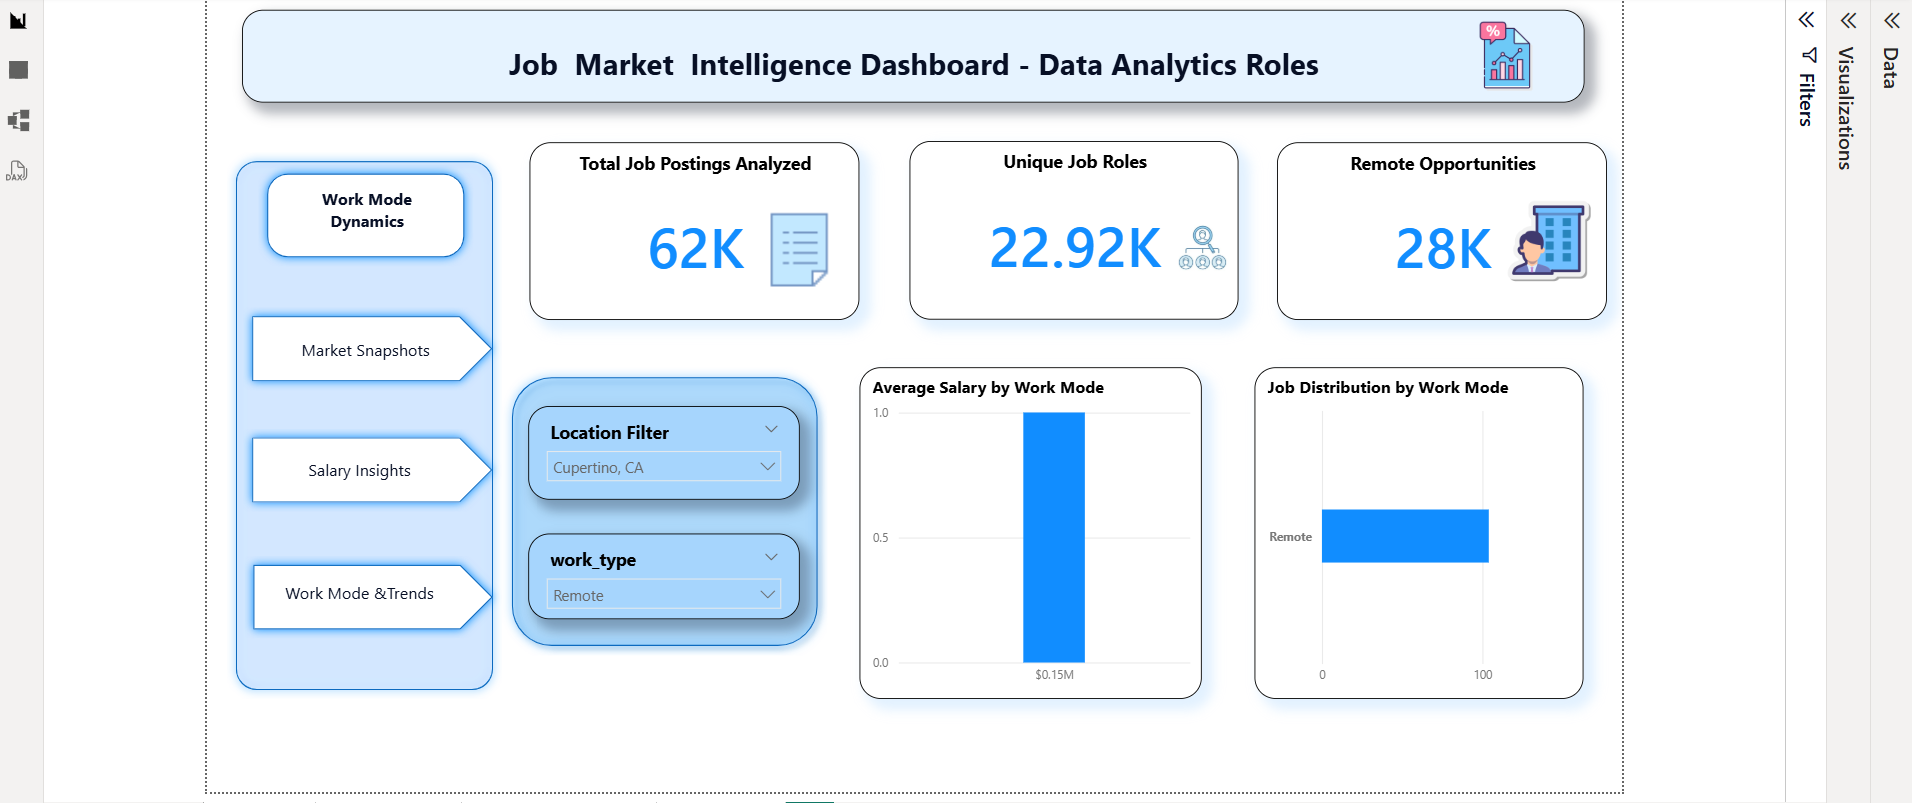

Layout of this report page (visuals, bound fields, positions):
{"tool":"powerbi","page":{"name":"Work Mode & Trends","canvas":[1280,720],"ordinal":2},"visuals":[{"type":"clusteredColumnChart","title":"Average Salary by Work Mode","fields":{"Category":["avg_salary_by_location.avg_salary"],"Y":["CountNonNull(remote_vs_worktype.work_type)"]},"box":[590.3,336.1,309.7,300],"z":0},{"type":"barChart","title":"Job Distribution by Work Mode","fields":{"Y":["Count(job_count_by_title.job_count)"],"Category":["remote_vs_worktype.work_type"]},"box":[947.7,336,297.7,300],"z":1000},{"type":"card","title":"Total Job Postings Analyzed","fields":{"Values":["Sum(job_count_by_title.job_count)"]},"box":[291.7,131.9,298.6,161.1],"z":2000},{"type":"textbox","box":[31.9,12.5,1214,84],"z":3000},{"type":"image","box":[1137.5,0,75,108.3],"z":4000},{"type":"card","title":"Unique Job Roles","fields":{"Values":["Count(job_count_by_title.title)"]},"box":[634.9,131.4,297.7,161.6],"z":5000},{"type":"card","title":"Remote Opportunities","fields":{"Values":["Sum(remote_vs_worktype.job_count)"]},"box":[968.1,131.9,298.6,161.1],"z":6000},{"type":"shape","box":[266.7,336.1,294.4,261.1],"z":7000},{"type":"slicer","fields":{"Values":["avg_salary_by_location.location"]},"box":[290.3,370.8,245.8,84.7],"z":8000},{"type":"slicer","fields":{"Values":["remote_vs_worktype.work_type"]},"box":[290.3,486.1,245.8,77.8],"z":9000},{"type":"shape","box":[18.1,141.7,248.6,494.4],"z":10000},{"type":"shape","box":[45.8,152.8,194.4,91.7],"z":11000},{"type":"shape","box":[33.3,281.9,233.3,75],"z":12000},{"type":"shape","box":[33.3,391.7,233.3,75],"z":13000},{"type":"shape","box":[33.7,507,232.6,74.4],"z":14000},{"type":"textbox","box":[70.8,168.1,147.2,62.5],"z":15000},{"type":"textbox","box":[45.8,305.6,194.4,30.6],"z":16000},{"type":"textbox","box":[45.8,413.9,183.3,41.7],"z":17000},{"type":"textbox","box":[45.8,525,183.3,38.9],"z":18000},{"type":"image","box":[494.4,169.4,83.3,119.4],"z":19000},{"type":"image","box":[866.7,168.1,66.7,120.8],"z":20000},{"type":"image","box":[1166.7,168.1,91.7,104.2],"z":21000}]}

Visuals, with their boxes on the page's 1280x720 design canvas (x1, y1, x2, y2). These are canvas units, not pixel positions in the 1912x803 screenshot, which may show the page scaled, cropped or inside an application window:
"Average Salary by Work Mode" clusteredColumnChart: BBox(590, 336, 900, 636)
"Job Distribution by Work Mode" barChart: BBox(948, 336, 1245, 636)
"Total Job Postings Analyzed" card: BBox(292, 132, 590, 293)
textbox: BBox(32, 12, 1246, 96)
image: BBox(1138, 0, 1212, 108)
"Unique Job Roles" card: BBox(635, 131, 933, 293)
"Remote Opportunities" card: BBox(968, 132, 1267, 293)
shape: BBox(267, 336, 561, 597)
slicer - avg_salary_by_location.location: BBox(290, 371, 536, 456)
slicer - remote_vs_worktype.work_type: BBox(290, 486, 536, 564)
shape: BBox(18, 142, 267, 636)
shape: BBox(46, 153, 240, 244)
shape: BBox(33, 282, 267, 357)
shape: BBox(33, 392, 267, 467)
shape: BBox(34, 507, 266, 581)
textbox: BBox(71, 168, 218, 231)
textbox: BBox(46, 306, 240, 336)
textbox: BBox(46, 414, 229, 456)
textbox: BBox(46, 525, 229, 564)
image: BBox(494, 169, 578, 289)
image: BBox(867, 168, 933, 289)
image: BBox(1167, 168, 1258, 272)
